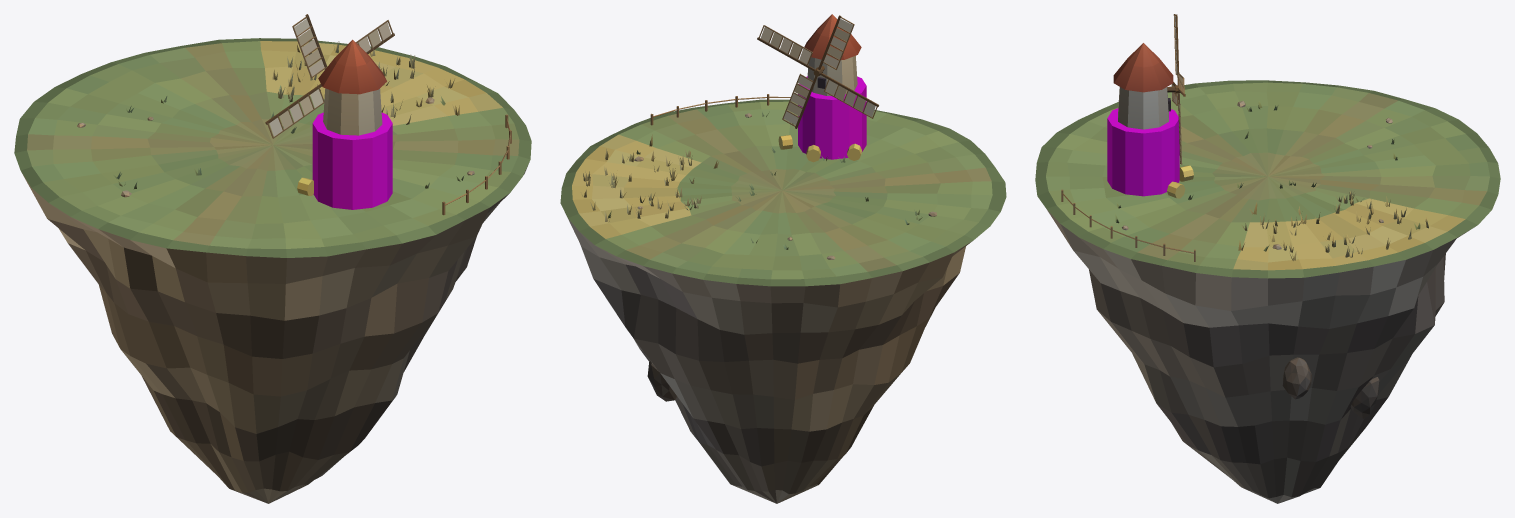
File: isle_wild_windmill.glb
3 views of the same model, side by side, from view 1: azimuth 30°, elevation 25°; view 2: azimuth 150°, elevation 25°; view 3: azimuth 270°, elevation 25° (orthographic). The views are drawn at different scales.
Visible parts, largest first — view 1: isle_wild_windmill, col_mill, sails; view 2: isle_wild_windmill, sails, col_mill; view 3: isle_wild_windmill, col_mill, sails.
Boxes of the visible parts, left/top/right/bottom form: isle_wild_windmill: left=14, top=38, right=531, bottom=503; col_mill: left=312, top=112, right=392, bottom=209; sails: left=265, top=14, right=394, bottom=138; isle_wild_windmill: left=560, top=14, right=1006, bottom=503; sails: left=757, top=15, right=878, bottom=128; col_mill: left=798, top=76, right=866, bottom=159; isle_wild_windmill: left=1035, top=43, right=1500, bottom=503; col_mill: left=1107, top=108, right=1179, bottom=196; sails: left=1171, top=14, right=1185, bottom=164.
Bounding box in the file's own units: 33.71 × 38.3 × 33.52.
